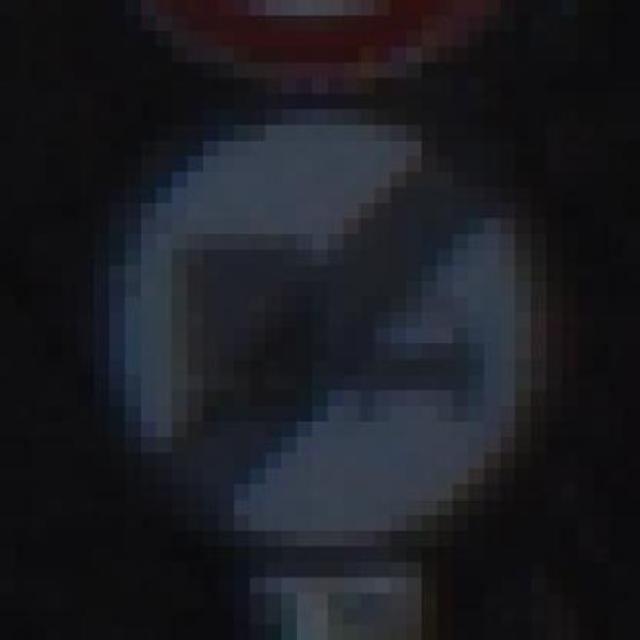Overtaking by trucks is prohibited: (0, 78, 625, 562)
